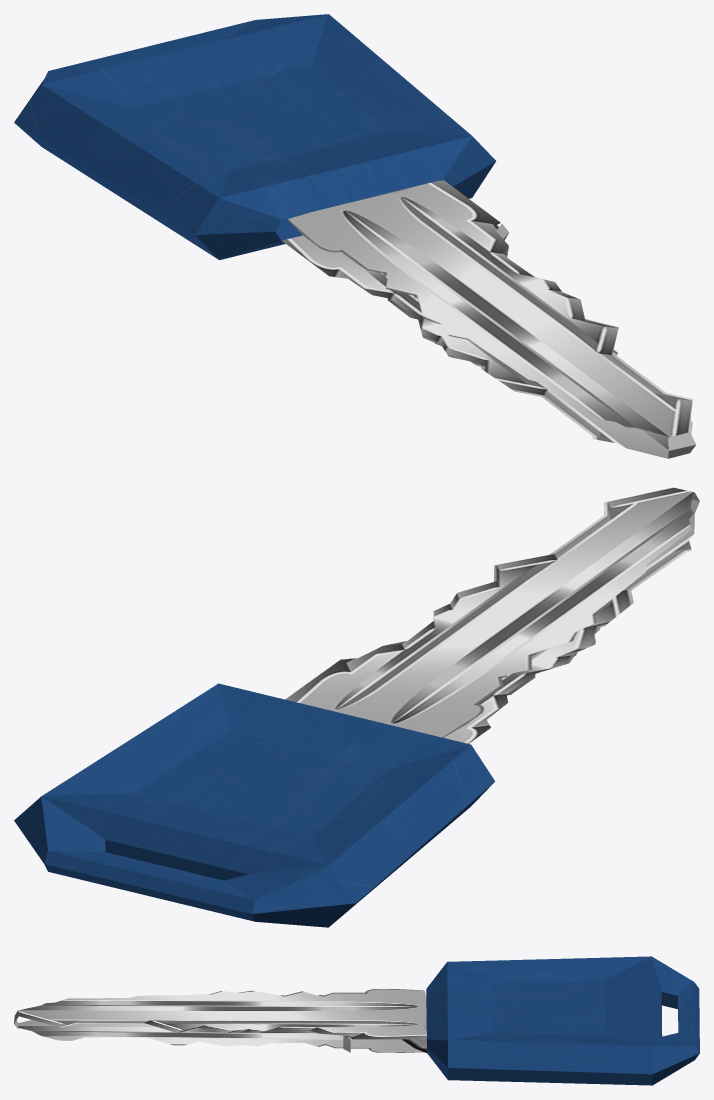
File: LLAVES.fbx
3 renders of one model, top to bottom at view 1: azimuth 30°, elevation 25°; view 2: azimuth 150°, elevation 25°; view 3: azimuth 270°, elevation 25°, orthographic. The views are drawn at different scales.
Parts seen in each view (by area): view 1: Plane; view 2: Plane; view 3: Plane.
Part boxes in pixels (x1,y1,x2,y2): Plane: (14, 14, 696, 458); Plane: (14, 487, 699, 927); Plane: (14, 956, 699, 1085).
Bounding box in the file's own units: 339 × 58.78 × 923.
